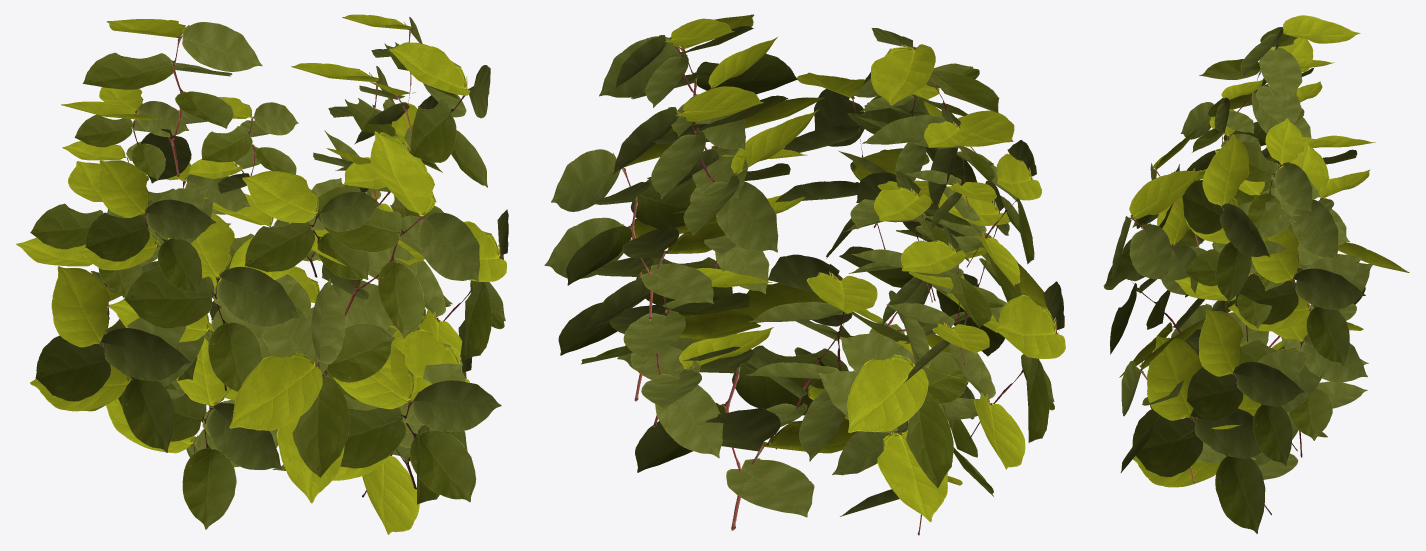
Rendered from PNW Plant_A_Medium_512.glb.
The picture shows the model from 3 angles, left to right: view 1: azimuth 30°, elevation 25°; view 2: azimuth 150°, elevation 25°; view 3: azimuth 270°, elevation 25°; orthographic projection. The views are drawn at different scales.
Visible parts, largest first — view 1: Plant_A_Medium_512; view 2: Plant_A_Medium_512; view 3: Plant_A_Medium_512.
Boxes of the visible parts, <box> form: Plant_A_Medium_512: <box>16,14,508,534</box>; Plant_A_Medium_512: <box>544,14,1065,535</box>; Plant_A_Medium_512: <box>1103,15,1409,533</box>.
Size of the model in its own units: 1.26 by 1.3 by 0.8867.
1 material, 1 textured.
